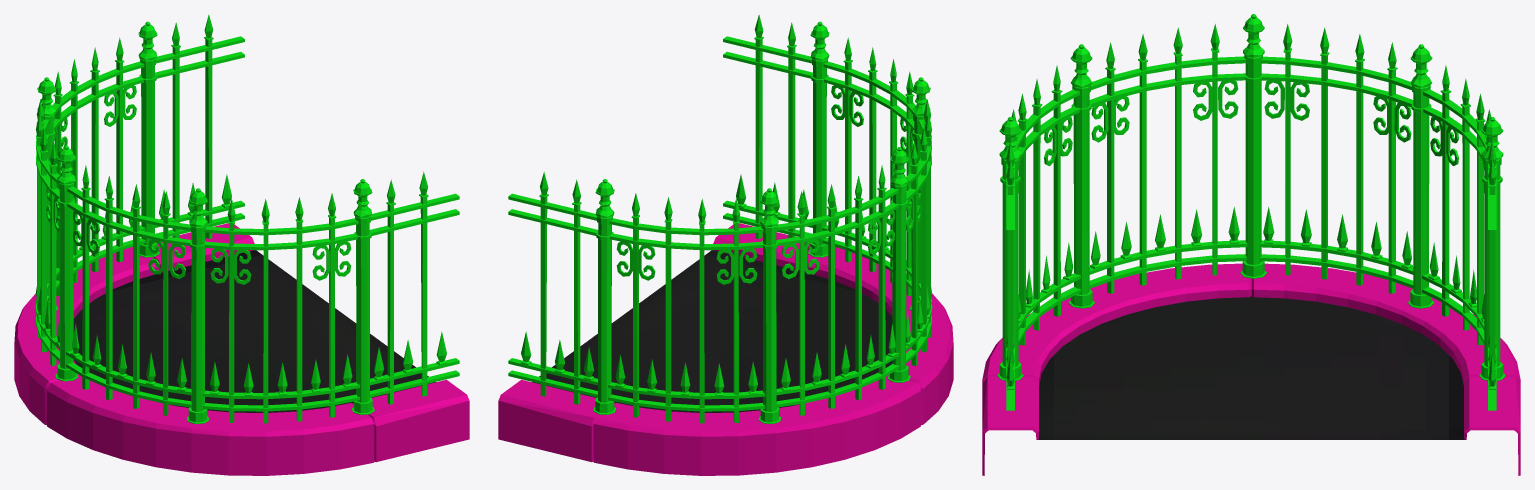
The model's file is City_Fence04.fbx.
The picture shows the model from 3 angles, left to right: view 1: azimuth 30°, elevation 25°; view 2: azimuth 150°, elevation 25°; view 3: azimuth 270°, elevation 25°; orthographic projection. The views are drawn at different scales.
Parts seen in each view (by area): view 1: SM_City_Fence_04_Divider_01_02.mo; view 2: SM_City_Fence_04_Divider_01_02.mo; view 3: SM_City_Fence_04_Divider_01_02.mo.
Boxes of the visible parts, left/top/right/bottom form: SM_City_Fence_04_Divider_01_02.mo: left=14, top=14, right=469, bottom=475; SM_City_Fence_04_Divider_01_02.mo: left=498, top=14, right=953, bottom=475; SM_City_Fence_04_Divider_01_02.mo: left=982, top=14, right=1520, bottom=475.
Size of the model in its own units: 258 by 222 by 352.
